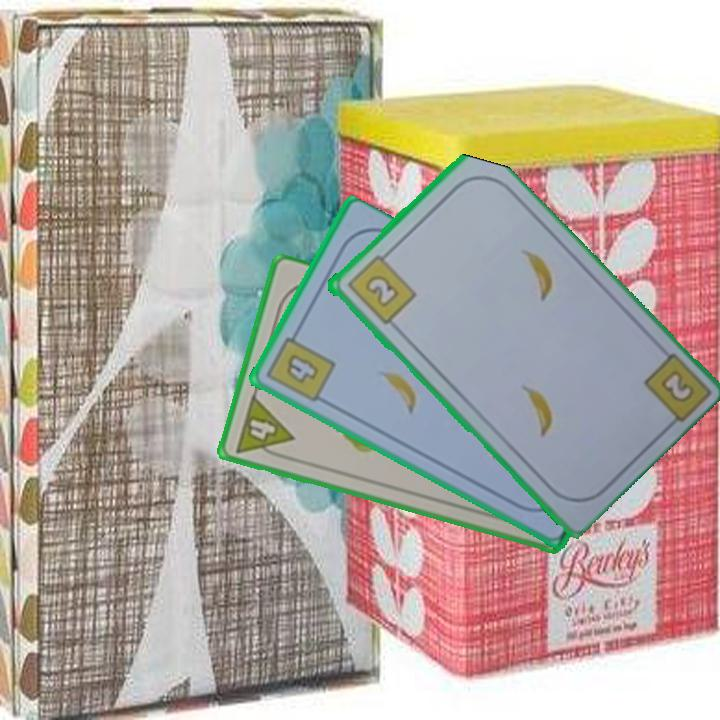2b: (342, 246, 419, 327), (656, 366, 700, 406)
4b: (263, 325, 338, 406)
4p: (231, 392, 297, 464)
